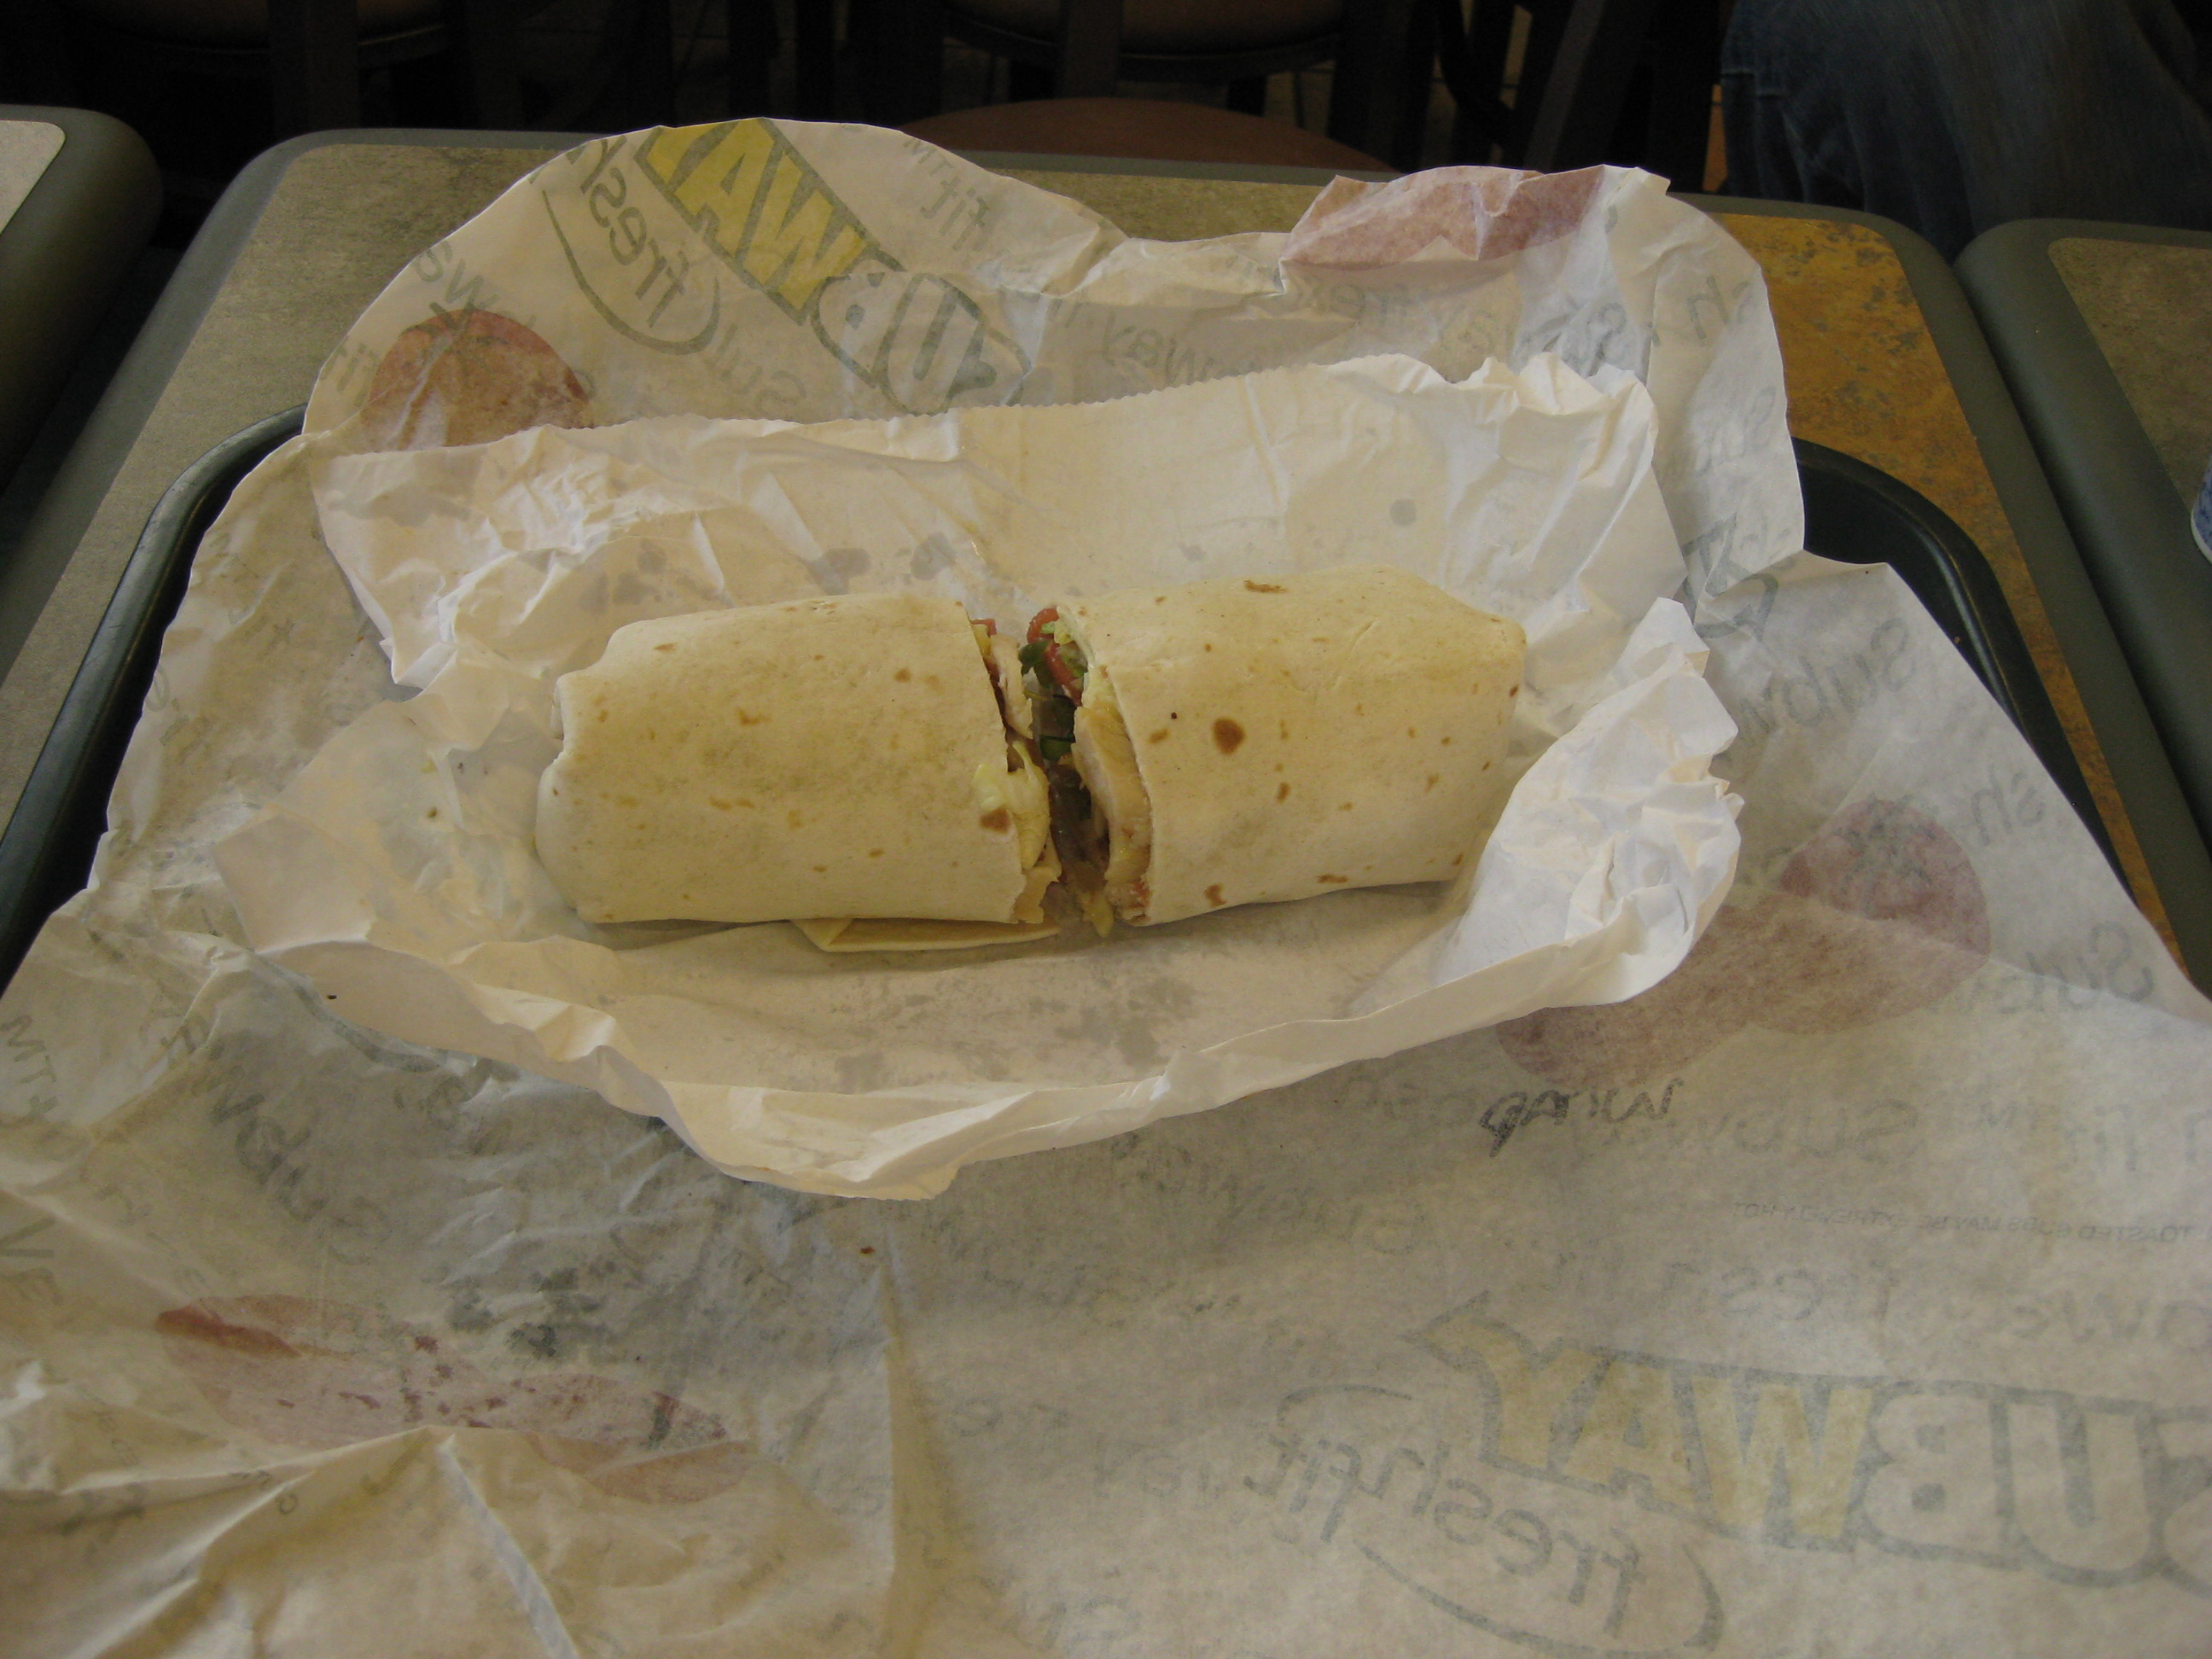burrito: (527, 561, 1587, 936)
